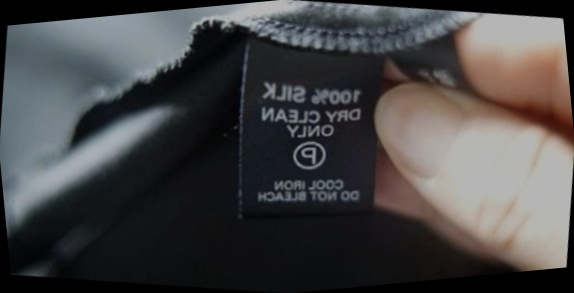dry_clean_any_solvent_except_trichloroethylene: (288, 135, 329, 174)
